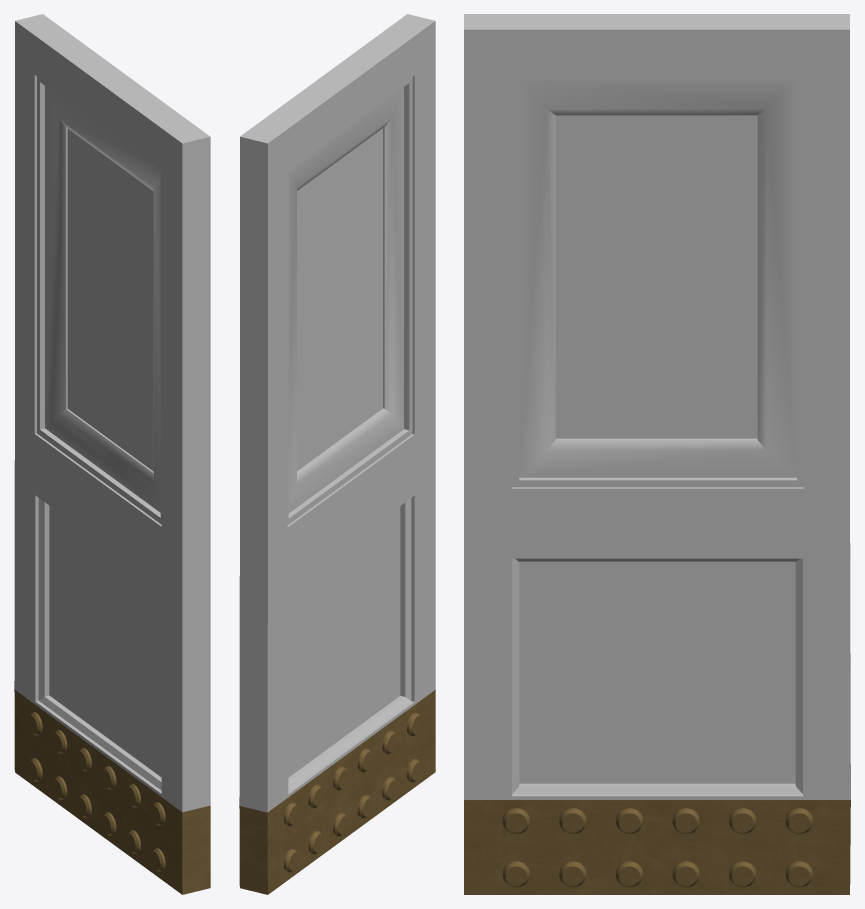
Rendered from SM_WD21_DOOR_2.fbx.
The picture shows the model from 3 angles, left to right: view 1: azimuth 30°, elevation 25°; view 2: azimuth 150°, elevation 25°; view 3: azimuth 270°, elevation 25°; orthographic projection. The views are drawn at different scales.
Visible parts, largest first — view 1: SM_WD21_DOOR_2; view 2: SM_WD21_DOOR_2; view 3: SM_WD21_DOOR_2.
Part boxes in pixels (x1=…): SM_WD21_DOOR_2: x1=14, y1=14, x2=210, y2=894; SM_WD21_DOOR_2: x1=239, y1=14, x2=435, y2=894; SM_WD21_DOOR_2: x1=464, y1=14, x2=850, y2=894.
Size of the model in its own units: 11.36 by 90.15 by 223.
